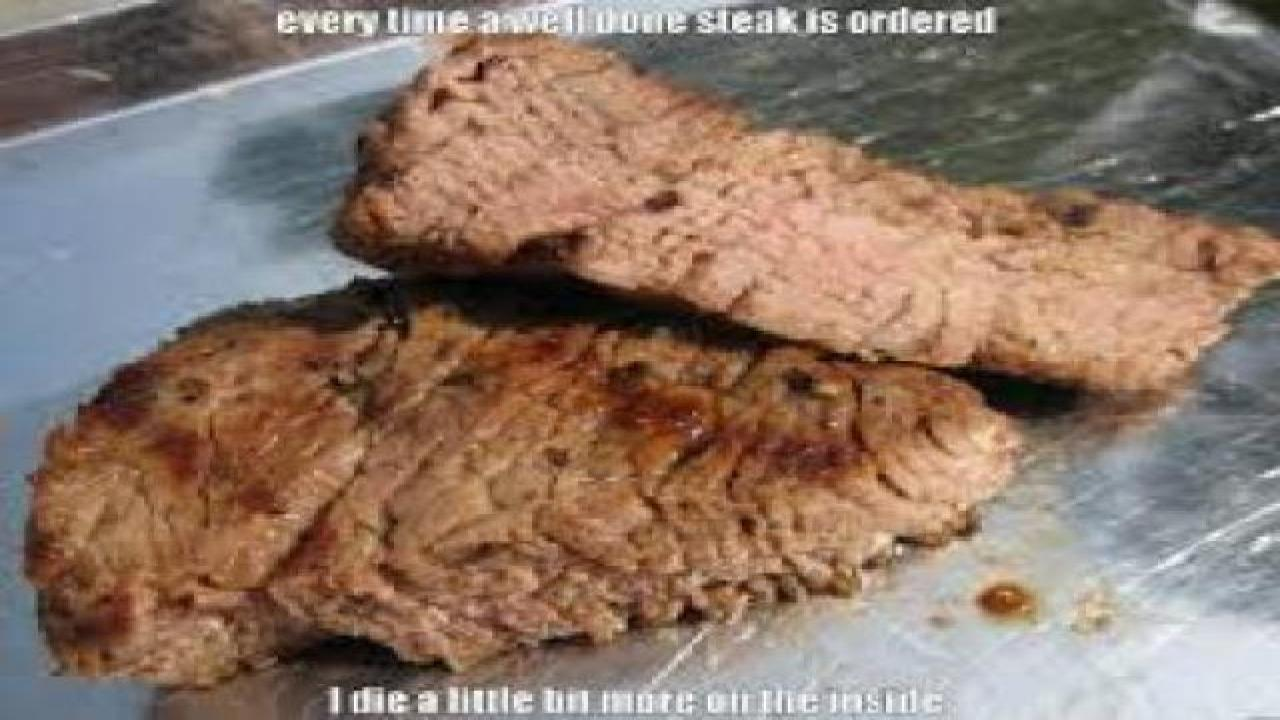Carne: (20, 282, 1094, 680), (313, 10, 1266, 418)
